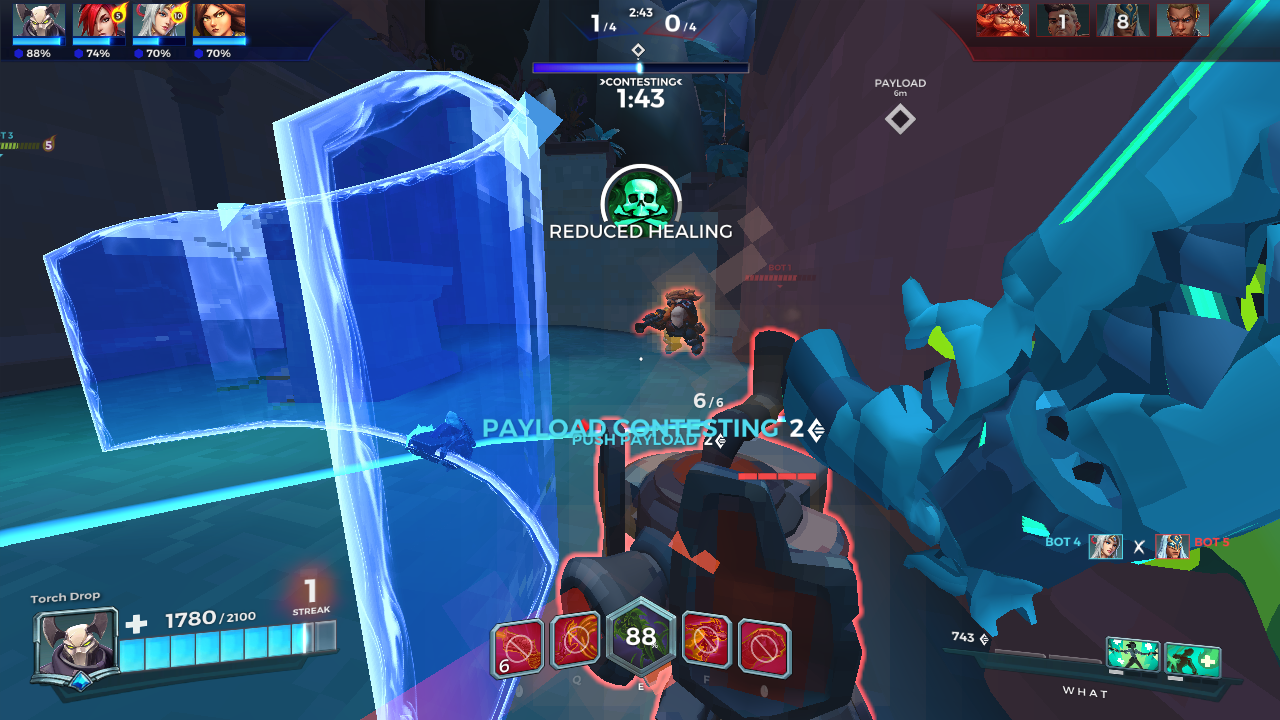model: (651, 287, 704, 366)
